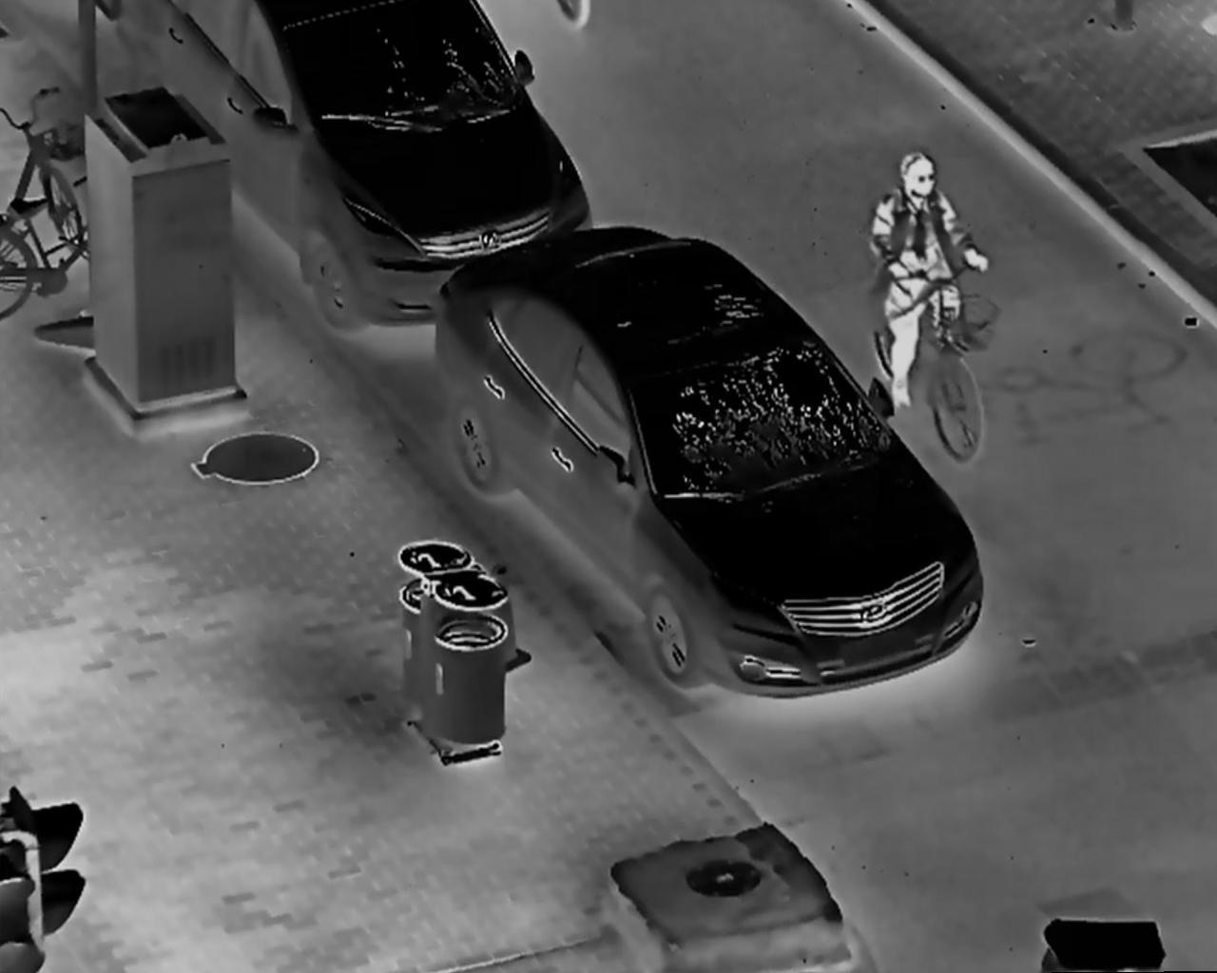person: (860, 145, 995, 418)
